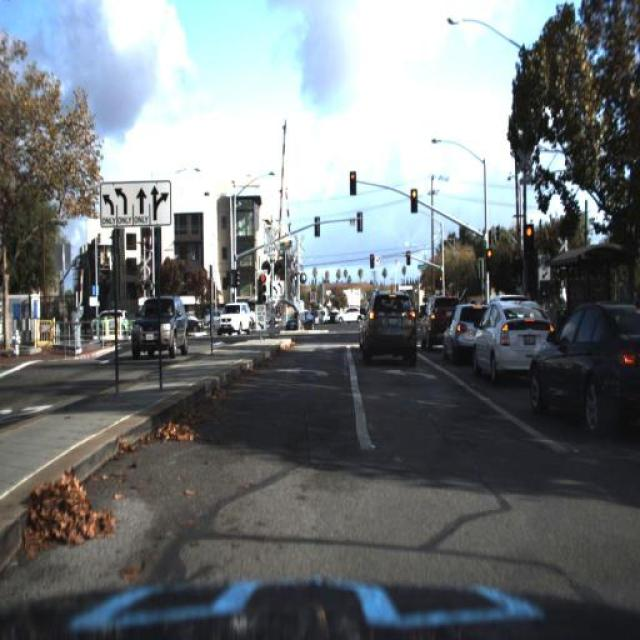car: (526, 300, 640, 442), (468, 294, 554, 387), (475, 293, 534, 387), (353, 288, 421, 369), (128, 292, 188, 358), (437, 300, 482, 360), (421, 292, 451, 353), (447, 299, 477, 360), (212, 301, 253, 338), (421, 294, 447, 348), (217, 303, 255, 337), (332, 299, 366, 329), (284, 304, 314, 335), (284, 306, 308, 332), (336, 300, 354, 332), (188, 311, 206, 335)
trafficLight: (630, 302, 640, 352)
trafficLight-RedLeft: (520, 224, 536, 261), (256, 271, 270, 308), (484, 244, 497, 277), (408, 184, 421, 216), (258, 270, 270, 302), (367, 245, 379, 277), (410, 182, 421, 208), (406, 244, 416, 270), (484, 247, 494, 273), (404, 247, 414, 272), (344, 169, 355, 191), (370, 244, 380, 268), (524, 223, 534, 246), (439, 270, 445, 288)
trafficLight-Yellow: (349, 168, 358, 193)
